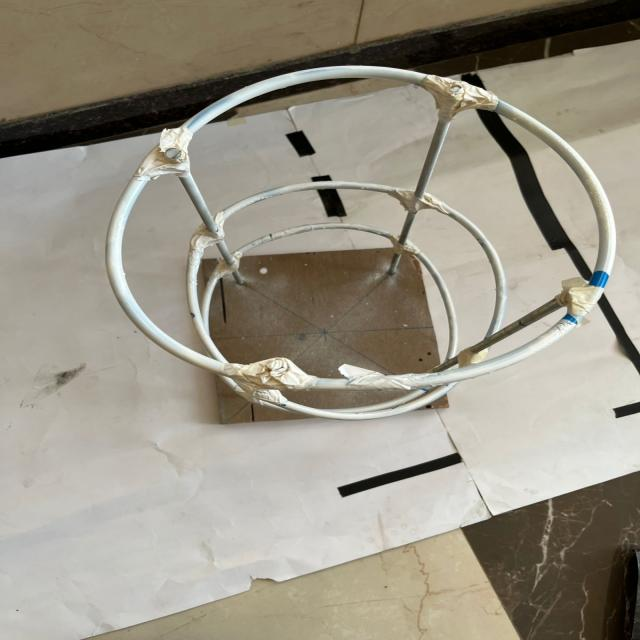silo: (112, 65, 606, 421)
